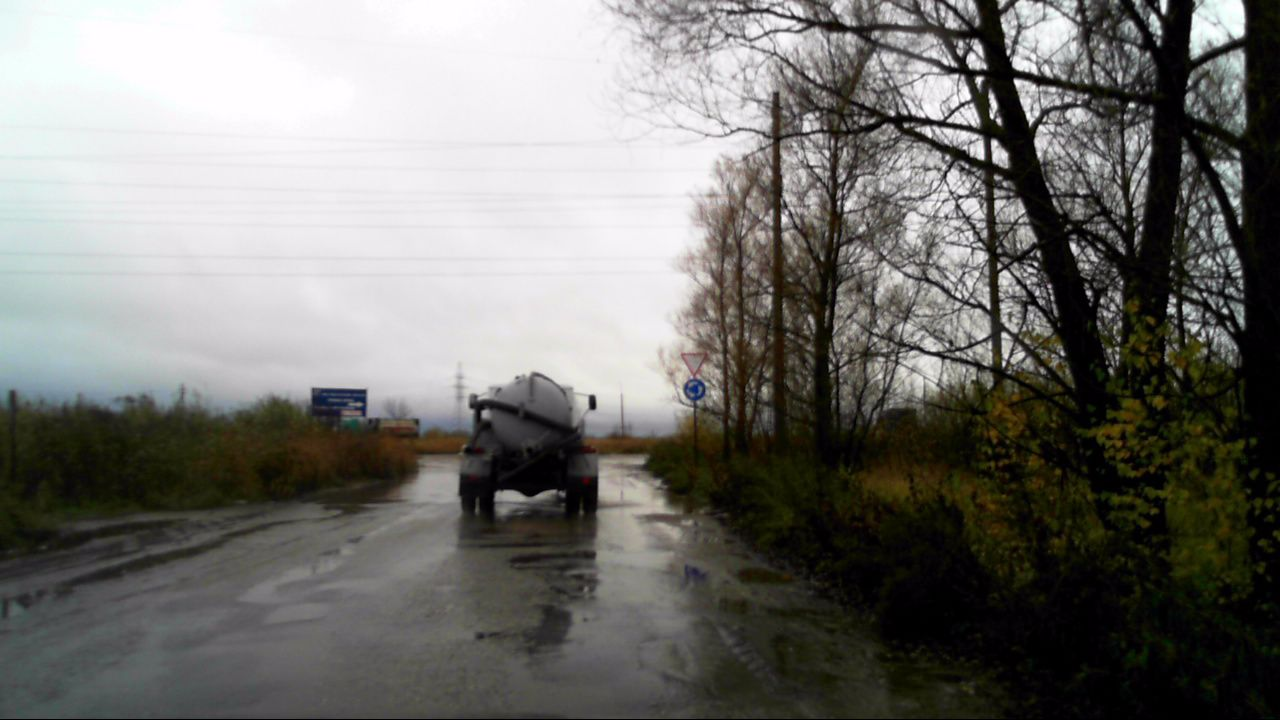Round-About: (682, 377, 707, 403)
